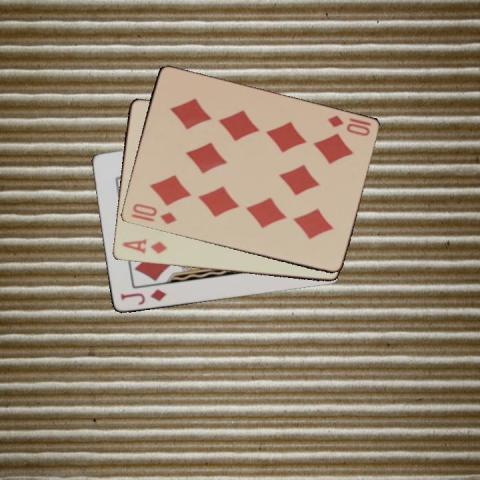10d: (324, 113, 373, 138), (130, 201, 177, 226)
Ad: (119, 237, 168, 255)
Jd: (117, 286, 167, 307)
